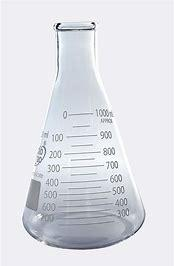Titrarion: (16, 9, 151, 250)
